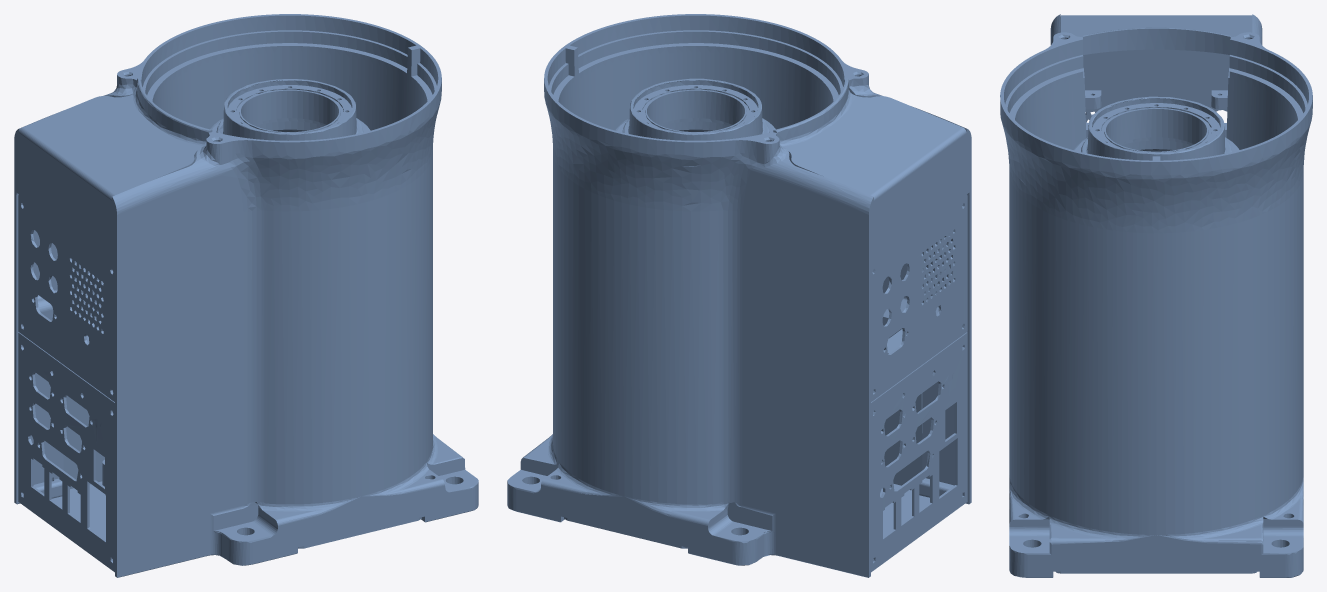
Rendered from pavp6_base_link.dae.
3 renders of one model, left to right at view 1: azimuth 30°, elevation 25°; view 2: azimuth 150°, elevation 25°; view 3: azimuth 270°, elevation 25°, orthographic. The views are drawn at different scales.
Parts seen in each view (by area): view 1: Pavp6_Base_Link; view 2: Pavp6_Base_Link; view 3: Pavp6_Base_Link.
Boxes of the visible parts, <box> form: Pavp6_Base_Link: <box>14,14,478,577</box>; Pavp6_Base_Link: <box>507,14,971,577</box>; Pavp6_Base_Link: <box>1000,14,1312,577</box>.
Size of the model in its own units: 0.23 by 0.17 by 0.2532.
